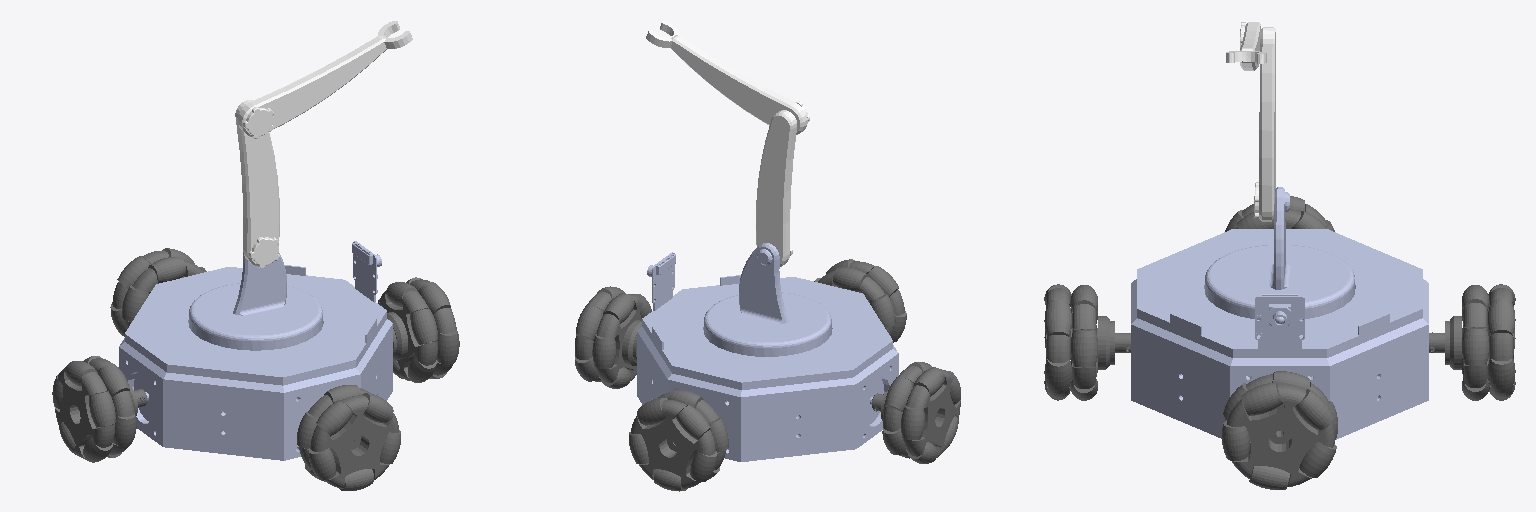
The robot description file, URDF, robot "description_omni_robot":
<?xml version="1.0" encoding="utf-8"?>
<!-- This URDF was automatically created by SolidWorks to URDF Exporter! Originally created by [author] ([email redacted]) 
     Commit Version: 1.6.0-4-g7f85cfe  Build Version: 1.6.7995.38578
     For more information, please see http://wiki.ros.org/sw_urdf_exporter -->
<robot name="description_omni_robot">
  <link name="base_link">
    <inertial>
      <origin xyz="5.14879102063576E-05 -1.74137783845452E-07 0.0274553941635394" rpy="0 0 0" />
      <mass value="0.82739544504234" />
      <inertia ixx="0.00126971978503133" ixy="4.9819065060905E-09" ixz="-9.85690620060945E-07" 
               iyy="0.00127069403946336" iyz="-1.10887884890718E-08" izz="0.00223743741015236" />
    </inertial>
    <visual>
      <origin xyz="0 0 0" rpy="0 0 0" />
      <geometry>
        <mesh filename="package://description_omni_robot/meshes/base_link.STL" />
      </geometry>
      <material name="">
        <color rgba="0.792156862745098 0.819607843137255 0.933333333333333 1" />
      </material>
    </visual>
    <collision>
      <origin xyz="0 0 0" rpy="0 0 0" />
      <geometry>
        <mesh filename="package://description_omni_robot/meshes/base_link.STL" />
      </geometry>
    </collision>
  </link>

  <!-- wheel_1 -->
  <link name="wheel_1_link">
    <inertial>
      <origin xyz="-7.73331428324808E-07 1.36449829682764E-06 0.00250496373629692" rpy="0 0 0" />
      <mass value="0.0573416524778109" />
      <inertia ixx="1.13223293501509E-05" ixy="-2.95114804266276E-09" ixz="3.32124175338235E-10" 
               iyy="1.13254060867275E-05" iyz="-5.85053909828597E-10" izz="2.10837781325331E-05" />
    </inertial>
    <visual>
      <origin xyz="0 0 0" rpy="0 0 0" />
      <geometry>
        <mesh filename="package://description_omni_robot/meshes/wheel_1_link.STL" />
      </geometry>
      <material name="">
        <color rgba="0.498039215686275 0.498039215686275 0.498039215686275 1" />
      </material>
    </visual>
    <collision>
      <origin xyz="0 0 0" rpy="0 0 0" />
      <geometry>
        <mesh filename="package://description_omni_robot/meshes/wheel_1_link.STL" />
      </geometry>
    </collision>
  </link>
  <joint name="wheel_1_joint" type="continuous">
    <origin xyz="0 -0.100246212024587 0.0205" rpy="1.57079632679491 0 0" />
    <parent link="base_link" />
    <child link="wheel_1_link" />
    <axis xyz="0 0 1" />
  </joint>

  <!-- wheel_2 -->
  <link name="wheel_2_link">
    <inertial>
      <origin xyz="-7.17667867591865E-07 -1.39141786774724E-06 0.00250496280406026" rpy="0 0 0" />
      <mass value="0.0573416543957745" />
      <inertia ixx="1.1322094172155E-05" ixy="2.81602792280319E-09" ixz="3.07984717324648E-10" 
               iyy="1.13256412752839E-05" iyz="5.98180667761237E-10" izz="2.10837781360202E-05" />
    </inertial>
    <visual>
      <origin xyz="0 0 0" rpy="0 0 0" />
      <geometry>
        <mesh filename="package://description_omni_robot/meshes/wheel_2_link.STL" />
      </geometry>
      <material name="">
        <color rgba="0.498039215686275 0.498039215686275 0.498039215686275 1" />
      </material>
    </visual>
    <collision>
      <origin xyz="0 0 0" rpy="0 0 0" />
      <geometry>
        <mesh filename="package://description_omni_robot/meshes/wheel_2_link.STL" />
      </geometry>
    </collision>
  </link>
  <joint name="wheel_2_joint" type="continuous">
    <origin xyz="0 0.100246212024587 0.0205" rpy="-1.5707963267949 0 0" />
    <parent link="base_link" />
    <child link="wheel_2_link" />
    <axis xyz="0 0 1" />
  </joint>

  <!-- wheel_3 -->
  <link name="wheel_3_link">
    <inertial>
      <origin xyz="1.51908366140263E-06 3.88345460327483E-07 0.00250496393125138" rpy="0 0 0" />
      <mass value="0.0573416520711861" />
      <inertia ixx="1.13268774307609E-05" ixy="1.42026119981074E-09" ixz="-6.51892959611491E-10" 
               iyy="1.13208580119281E-05" iyz="-1.66006995153961E-10" izz="2.10837781377862E-05" />
    </inertial>
    <visual>
      <origin xyz="0 0 0" rpy="0 0 0" />
      <geometry>
        <mesh filename="package://description_omni_robot/meshes/wheel_3_link.STL" />
      </geometry>
      <material name="">
        <color rgba="0.498039215686275 0.498039215686275 0.498039215686275 1" />
      </material>
    </visual>
    <collision>
      <origin xyz="0 0 0" rpy="0 0 0" />
      <geometry>
        <mesh filename="package://description_omni_robot/meshes/wheel_3_link.STL" />
      </geometry>
    </collision>
  </link>
  <joint name="wheel_3_joint" type="continuous">
    <origin xyz="0.100246212024587 0 0.0205" rpy="-1.5707963267949 0 -1.5707963267949" />
    <parent link="base_link" />
    <child link="wheel_3_link" />
    <axis xyz="0 0 1" />
  </joint>

  <!-- wheel_4 -->
  <link name="wheel_4_link">
    <inertial>
      <origin xyz="5.93270891080522E-07 1.45176169149414E-06 0.00250496284038054" rpy="0 0 0" />
      <mass value="0.0573416543210749" />
      <inertia ixx="1.13216344271888E-05" ixy="2.46736600754738E-09" ixz="-2.54928006960283E-10" 
               iyy="1.13261010157933E-05" iyz="-6.22521577202815E-10" izz="2.1083778134734E-05" />
    </inertial>
    <visual>
      <origin xyz="0 0 0" rpy="0 0 0" />
      <geometry>
        <mesh filename="package://description_omni_robot/meshes/wheel_4_link.STL" />
      </geometry>
      <material name="">
        <color rgba="0.498039215686275 0.498039215686275 0.498039215686275 1" />
      </material>
    </visual>
    <collision>
      <origin xyz="0 0 0" rpy="0 0 0" />
      <geometry>
        <mesh filename="package://description_omni_robot/meshes/wheel_4_link.STL" />
      </geometry>
    </collision>
  </link>
  <joint name="wheel_4_joint" type="continuous">
    <origin xyz="-0.100246212024587 0 0.0205" rpy="-1.5707963267949 0 1.57079632679491" />
    <parent link="base_link" />
    <child link="wheel_4_link" />
    <axis xyz="0 0 1" />
  </joint>

  <!-- camera -->
  <link name="camera_link">
    <inertial>
      <origin xyz="0.000590757244492469 0.000225284785262264 0.00159615208822683" rpy="0 0 0" />
      <mass value="0.00154848311785293" />
      <inertia ixx="9.81433995869744E-08" ixy="1.55151579933954E-11" ixz="2.74786653138131E-09" 
               iyy="6.15272705564258E-08" iyz="3.76721137527359E-10" izz="5.63299136111501E-08" />
    </inertial>
    <visual>
      <origin xyz="0 0 0" rpy="0 0 0" />
      <geometry>
        <mesh filename="package://description_omni_robot/meshes/camera_link.STL" />
      </geometry>
      <material name="">
        <color rgba="0.792156862745098 0.819607843137255 0.933333333333333 1" />
      </material>
    </visual>
    <collision>
      <origin xyz="0 0 0" rpy="0 0 0" />
      <geometry>
        <mesh filename="package://description_omni_robot/meshes/camera_link.STL" />
      </geometry>
    </collision>
  </link>
  <joint name="camera_joint" type="fixed">
    <origin xyz="0.0712462120245874 -0.00019894784923466 0.0677413009524857" rpy="0 0 0" />
    <parent link="base_link" />
    <child link="camera_link" />
    <axis xyz="0 0 0" />
  </joint>

  <!-- arm_1 -->
  <link name="arm_1_link">
    <inertial>
      <origin xyz="-0.00156400679897185 -0.0368950468782312 -0.00640740431699427" rpy="0 0 0" />
      <mass value="0.0143340992877115" />
      <inertia ixx="1.14190389667868E-05" ixy="-8.56747187757367E-07" ixz="4.45382074543421E-09" 
               iyy="5.72383802934529E-07" iyz="9.36344850652778E-08" izz="1.18300322472014E-05" />
    </inertial>
    <visual>
      <origin xyz="0 0 0" rpy="0 0 0" />
      <geometry>
        <mesh filename="package://description_omni_robot/meshes/arm_1_link.STL" />
      </geometry>
      <material name="">
        <color rgba="1 1 1 1" />
      </material>
    </visual>
    <collision>
      <origin xyz="0 0 0" rpy="0 0 0" />
      <geometry>
        <mesh filename="package://description_omni_robot/meshes/arm_1_link.STL" />
      </geometry>
    </collision>
  </link>
  <joint name="arm_1_joint" type="revolute">
    <origin xyz="0 0 0.098" rpy="-1.5707963267949 0 -0.0385348275356276" />
    <parent link="base_link" />
    <child link="arm_1_link" />
    <axis xyz="0.0595744481867079 0 -0.998223865234272" />
    <limit lower="-1.57" upper="1.57" effort="300" velocity="10" />
  </joint>

  <!-- arm_2 -->
  <link name="arm_2_link">
    <inertial>
      <origin xyz="0.0324879209871839 -0.0102485247399633 -0.00644610346251924" rpy="0 0 0" />
      <mass value="0.012131151928641" />
      <inertia ixx="1.48314951644483E-06" ixy="3.13729891623085E-06" ixz="-7.72880143623611E-08" 
               iyy="9.17646027315437E-06" iyz="2.43810275892347E-08" izz="1.04619577493572E-05" />
    </inertial>
    <visual>
      <origin xyz="0 0 0" rpy="0 0 0" />
      <geometry>
        <mesh filename="package://description_omni_robot/meshes/arm_2_link.STL" />
      </geometry>
      <material name="">
        <color rgba="1 1 1 1" />
      </material>
    </visual>
    <collision>
      <origin xyz="0 0 0" rpy="0 0 0" />
      <geometry>
        <mesh filename="package://description_omni_robot/meshes/arm_2_link.STL" />
      </geometry>
    </collision>
  </link>
  <joint name="arm_2_joint" type="revolute">
    <origin xyz="-0.00753775193889759 -0.0846651185300513 -0.00750000000000012" rpy="0 0 0" />
    <parent link="arm_1_link" />
    <child link="arm_2_link" />
    <axis xyz="0.0595744481867083 0 -0.998223865234272" />
    <limit lower="-1.57" upper="1.57" effort="300" velocity="10" />
  </joint>

  <!-- imu -->
  <link name="imu_link">
    <inertial>
      <origin xyz="4.57501099858371E-05 -4.57501099858648E-05 0.000488343705367655" rpy="0 0 0" />
      <mass value="0.000302850245192701" />
      <inertia ixx="7.75930196249146E-09" ixy="-1.72720502873062E-09" ixz="6.34808961588483E-13" 
               iyy="7.75930196249146E-09" iyz="-6.34808961588457E-13" izz="1.54683861524513E-08" />
    </inertial>
    <visual>
      <origin xyz="0 0 0" rpy="0 0 0" />
      <geometry>
        <mesh filename="package://description_omni_robot/meshes/imu_link.STL" />
      </geometry>
      <material name="">
        <color rgba="0.666666666666667 0.698039215686274 0.768627450980392 1" />
      </material>
    </visual>
    <collision>
      <origin xyz="0 0 0" rpy="0 0 0" />
      <geometry>
        <mesh filename="package://description_omni_robot/meshes/imu_link.STL" />
      </geometry>
    </collision>
  </link>
  <joint name="imu_joint" type="fixed">
    <origin xyz="-0.000173723647626037 0.000173723647625995 0.00400000000000001" rpy="0 0 0" />
    <parent link="base_link" />
    <child link="imu_link" />
    <axis xyz="0 0 0" />
  </joint>

  <!-- plugin cho camera -->
  <gazebo reference="camera_link">
    <sensor name="camera_sensor" type="camera">
      <always_on>1</always_on>
      <update_rate>30</update_rate>
      <camera>
        <horizontal_fov>1.0472</horizontal_fov>
        <image_width>640</image_width>
        <image_height>480</image_height>
        <near>0.1</near>
        <far>100</far>
      </camera>
      <plugin name="camera_plugin" filename="libgazebo_ros_camera.so">
        <topicName>/camera/image_raw</topicName>
        <cameraName>camera</cameraName>
        <frameName>camera_link</frameName>
      </plugin>
    </sensor>
  </gazebo>

  <!-- plugin cho imu -->
  <gazebo reference="imu_link">
    <gravity>true</gravity>
    <sensor name="imu_sensor" type="imu">
      <always_on>true</always_on>
      <update_rate>100</update_rate>
      <visualize>true</visualize>
      <topic>__default_topic__</topic>
      <plugin filename="libgazebo_ros_imu_sensor.so" name="imu_plugin">
        <topicName>imu</topicName>
        <bodyName>imu_link</bodyName>
        <updateRateHZ>10.0</updateRateHZ>
        <gaussianNoise>0.0</gaussianNoise>
        <xyzOffset>0 0 0</xyzOffset>
        <rpyOffset>0 0 0</rpyOffset>
        <frameName>imu_link</frameName>
        <initialOrientationAsReference>false</initialOrientationAsReference>
      </plugin>
      <pose>0 0 0 0 0 0</pose>
    </sensor>
  </gazebo>

  <!-- plugin cho omni drive -->
  <gazebo>
    <plugin name="omni_drive_controller" filename="libgazebo_ros_planar_move.so">
      <commandTopic>cmd_vel</commandTopic>
      <odometryTopic>odom</odometryTopic>
      <odometryFrame>odom</odometryFrame>
      <robotBaseFrame>base_link</robotBaseFrame>
      <publishOdomTF>true</publishOdomTF>
      <updateRate>100</updateRate>
    </plugin>
  </gazebo>

  <!-- transmission cho arm -->
  <transmission name="arm_1_joint_transmission">
    <type>transmission_interface/SimpleTransmission</type>
    <joint name="arm_1_joint">
      <hardwareInterface>hardware_interface/PositionJointInterface</hardwareInterface>
    </joint>
    <actuator name="link1_servo">
      <mechanicalReduction>1.0</mechanicalReduction>
    </actuator>
  </transmission>

  <transmission name="arm_2_joint_transmission">
    <type>transmission_interface/SimpleTransmission</type>
    <joint name="arm_2_joint">
      <hardwareInterface>hardware_interface/PositionJointInterface</hardwareInterface>
    </joint>
    <actuator name="link2_servo">
      <mechanicalReduction>1.0</mechanicalReduction>
    </actuator>
  </transmission>

  <!-- transmission cho wheel -->
  <transmission name="tran_wheel_1">
    <type>transmission_interface/SimpleTransmission</type>
    <joint name="wheel_1_joint">
      <hardwareInterface>hardware_interface/VelocityJointInterface</hardwareInterface>
    </joint>
    <actuator name="wheel_1_motor">
      <mechanicalReduction>1</mechanicalReduction>
    </actuator>
  </transmission>

  <transmission name="tran_wheel_2">
    <type>transmission_interface/SimpleTransmission</type>
    <joint name="wheel_2_joint">
      <hardwareInterface>hardware_interface/VelocityJointInterface</hardwareInterface>
    </joint>
    <actuator name="wheel_2_motor">
      <mechanicalReduction>1</mechanicalReduction>
    </actuator>
  </transmission>

  <transmission name="tran_wheel_3">
    <type>transmission_interface/SimpleTransmission</type>
    <joint name="wheel_3_joint">
      <hardwareInterface>hardware_interface/VelocityJointInterface</hardwareInterface>
    </joint>
    <actuator name="wheel_3_motor">
      <mechanicalReduction>1</mechanicalReduction>
    </actuator>
  </transmission>

  <transmission name="tran_wheel_4">
    <type>transmission_interface/SimpleTransmission</type>
    <joint name="wheel_4_joint">
      <hardwareInterface>hardware_interface/VelocityJointInterface</hardwareInterface>
    </joint>
    <actuator name="wheel_4_motor">
      <mechanicalReduction>1</mechanicalReduction>
    </actuator>
  </transmission>

  <!-- plugin control gazebo -->
  <gazebo>
    <plugin name="gazebo_ros_control" filename="libgazebo_ros_control.so">
      <robotNamespace>/</robotNamespace>
      <robotSimType>gazebo_ros_control/DefaultRobotHWSim</robotSimType>
      <legacyModeNS>false</legacyModeNS>
      <controlPeriod>0.001</controlPeriod>
    </plugin>
  </gazebo>

</robot>

--- Render facts (derived) ---
The picture shows the robot from 3 angles, left to right: view 1: azimuth 30°, elevation 25°; view 2: azimuth 150°, elevation 25°; view 3: azimuth 270°, elevation 25°; orthographic projection.
Robot: description_omni_robot — 9 links, 8 joints (2 revolute, 4 continuous, 2 fixed); root link base_link; default pose: all joints at 0.
Links seen in each view (by area): view 1: base_link, wheel_1_link, wheel_4_link, wheel_3_link, arm_2_link, arm_1_link, wheel_2_link, camera_link; view 2: base_link, wheel_2_link, wheel_4_link, wheel_3_link, arm_1_link, arm_2_link, wheel_1_link, camera_link; view 3: base_link, wheel_3_link, wheel_2_link, wheel_1_link, arm_1_link, camera_link, wheel_4_link, arm_2_link.
Link boxes in pixels (x1,y1,x2,y2): base_link: (119, 252, 392, 460); wheel_1_link: (297, 385, 400, 490); wheel_4_link: (52, 356, 146, 462); wheel_3_link: (378, 277, 459, 382); arm_2_link: (238, 21, 412, 138); arm_1_link: (235, 100, 279, 267); wheel_2_link: (110, 248, 206, 336); camera_link: (352, 241, 381, 294); base_link: (637, 243, 898, 461); wheel_2_link: (629, 389, 728, 491); wheel_4_link: (872, 362, 960, 463); wheel_3_link: (575, 286, 651, 388); arm_1_link: (756, 110, 796, 266); arm_2_link: (646, 21, 809, 134); wheel_1_link: (814, 259, 906, 342); camera_link: (647, 252, 675, 302); base_link: (1131, 187, 1428, 439); wheel_3_link: (1222, 371, 1337, 489); wheel_2_link: (1429, 284, 1515, 400); wheel_1_link: (1044, 284, 1130, 400); arm_1_link: (1254, 27, 1275, 221); camera_link: (1255, 294, 1304, 339); wheel_4_link: (1225, 196, 1334, 231); arm_2_link: (1226, 22, 1266, 70).
Size in the robot's own frame: 0.2354 by 0.2354 by 0.2284 metres.
8 mesh visuals loaded from 9 distinct referenced files (8 binary STL); not drawn: 1 (reference not matched to a file when rendering).
